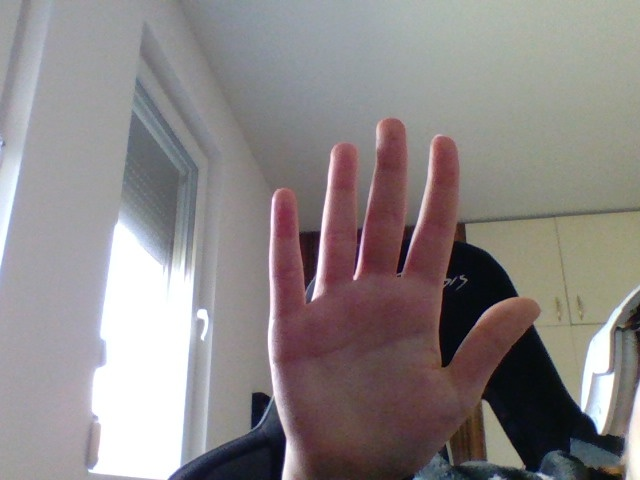HighFive: (267, 117, 543, 468)
